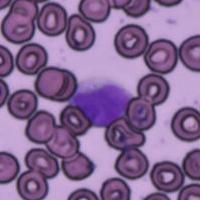M: (68, 77, 132, 127)
